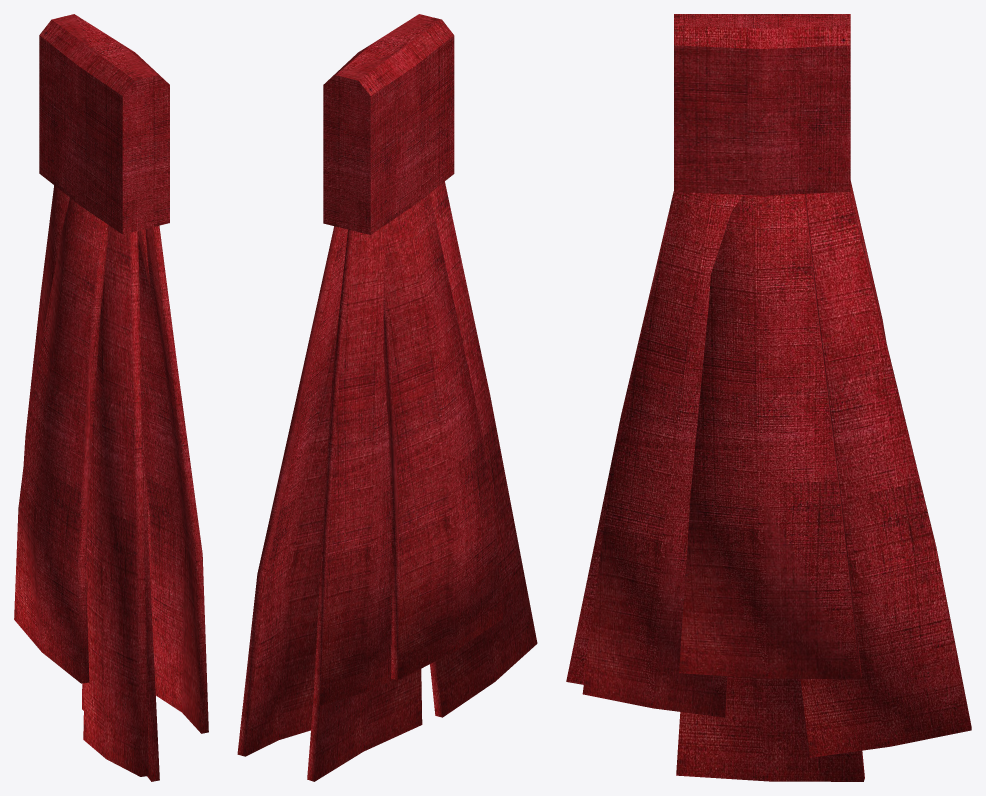
File: RedCloth.fbx
3 views of the same model, side by side, from view 1: azimuth 30°, elevation 25°; view 2: azimuth 150°, elevation 25°; view 3: azimuth 270°, elevation 25° (orthographic). The views are drawn at different scales.
Visible parts, largest first — view 1: RedCloth; view 2: RedCloth; view 3: RedCloth.
Boxes of the visible parts, left/top/right/bottom form: RedCloth: left=14, top=14, right=208, bottom=781; RedCloth: left=237, top=14, right=537, bottom=781; RedCloth: left=566, top=14, right=971, bottom=781.
Bounding box in the file's own units: 14.69 × 69.01 × 33.9.
1 material, 1 textured.
